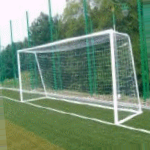goals: (17, 26, 145, 128)
